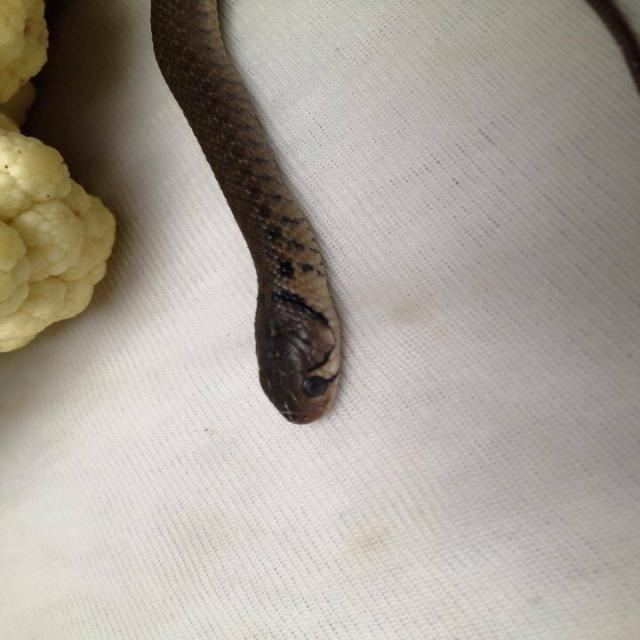Non-Venomous: (222, 253, 379, 432)
